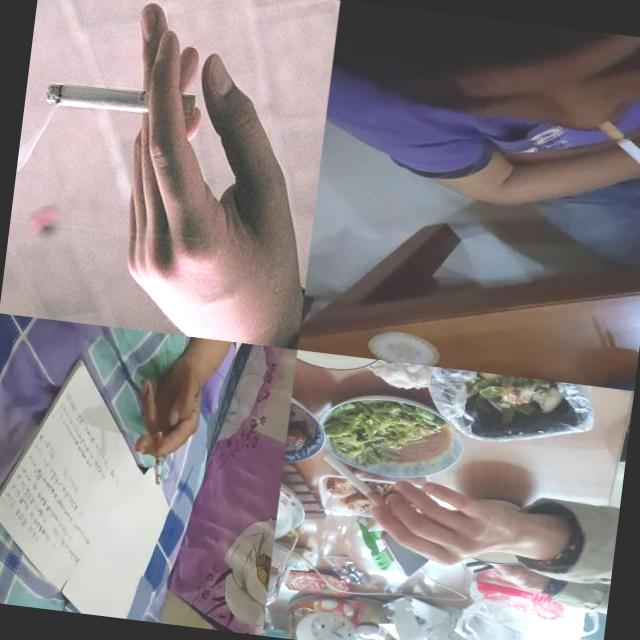smoke: (44, 76, 196, 122), (317, 452, 402, 517), (591, 119, 640, 182), (150, 430, 167, 486)
